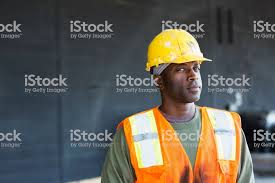Person_wearing_helmet: (149, 27, 213, 76)
